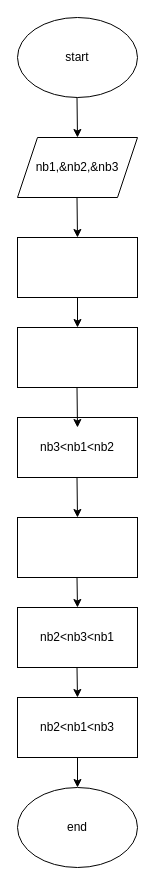
This 155x885 diagram has some shape labels left out. The shapes that lost their labels are listed below. From the top down, each one's centre as x and y in pixels, then its label:
point (77, 267): nb1<nb2<nb3
point (77, 357): nb1<nb3<nb2)
point (77, 547): nb3<nb2<nb1
